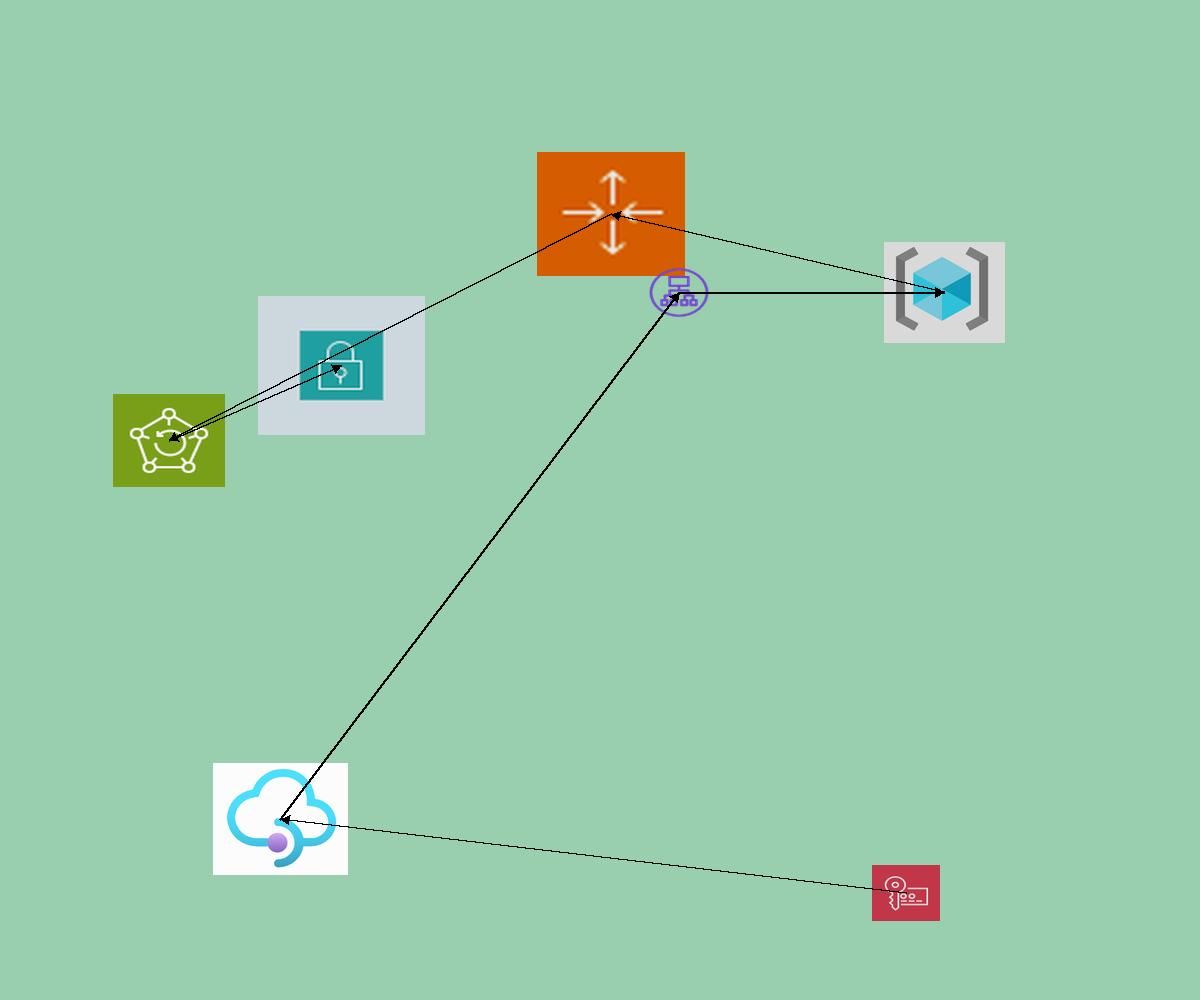AWS-Backup: (113, 394, 225, 487)
AWS-Key-Management-Service: (872, 865, 940, 921)
AWS-Private-subnet: (258, 296, 425, 435)
AWS-Res_Elastic-Load-Balancing_Application-Load-Balancer: (647, 266, 711, 319)
AWS-Scaling-group: (537, 152, 685, 276)
Azure_api_gateway: (213, 763, 348, 875)
Azure_resource_group: (884, 242, 1005, 343)
